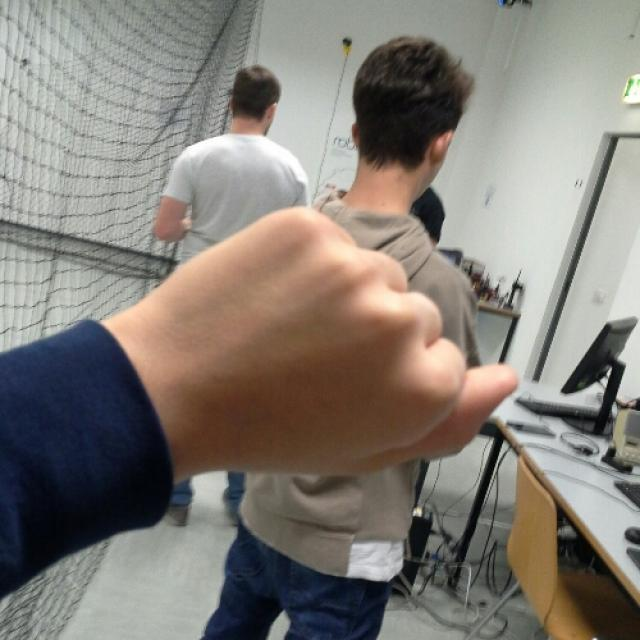rock: (193, 205, 522, 478)
